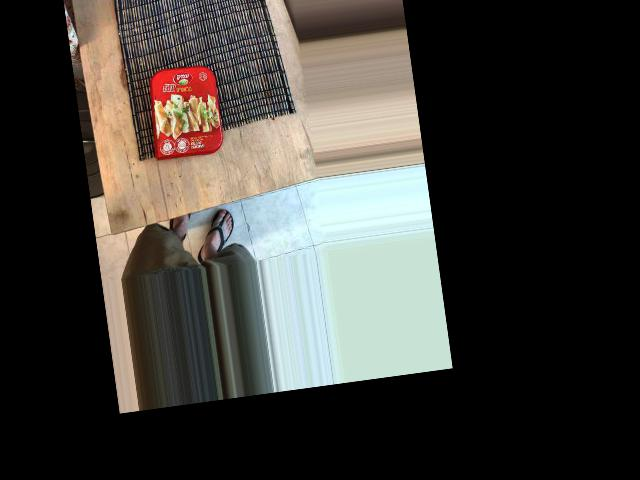cheese: (166, 32, 312, 136)
